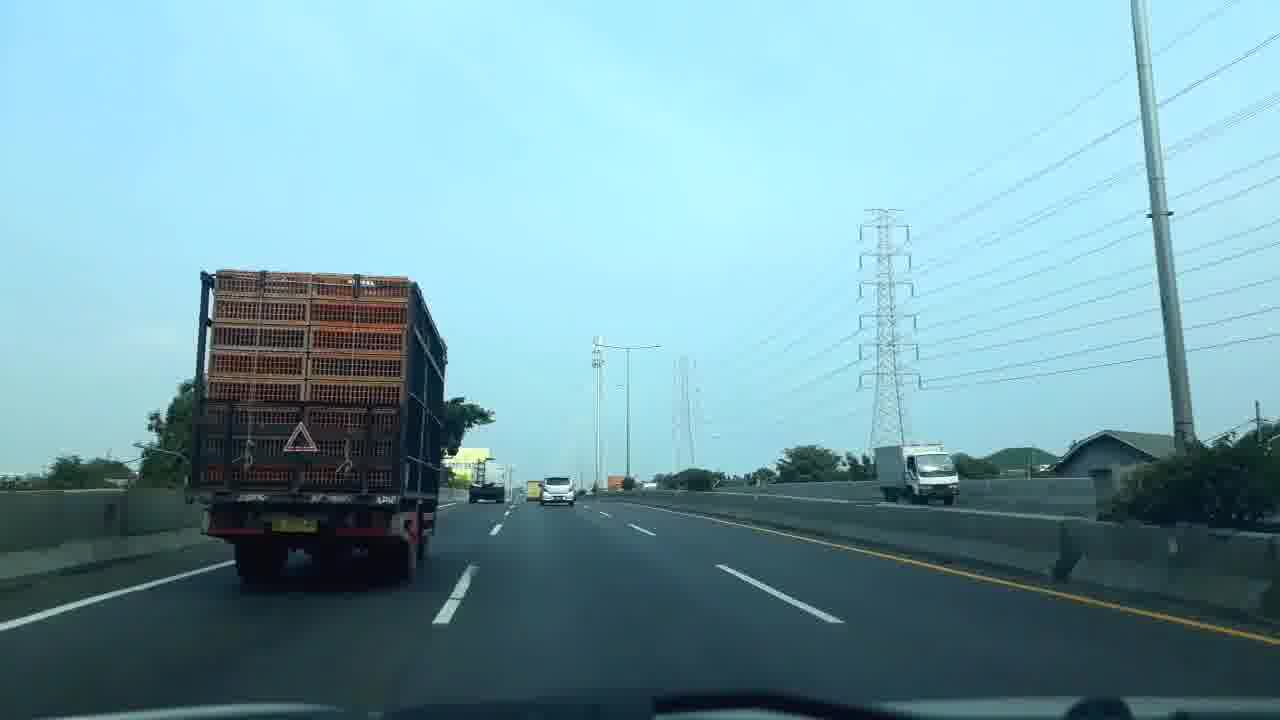plate_positive: (270, 517, 319, 533), (553, 496, 563, 500)
